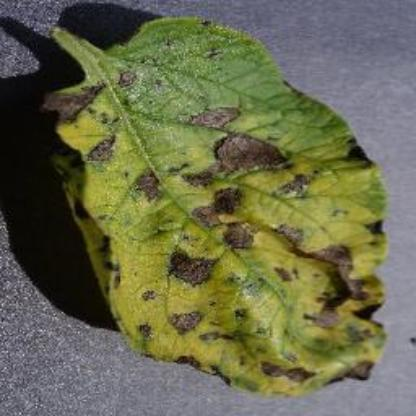Early-Blight: (37, 12, 393, 396)
